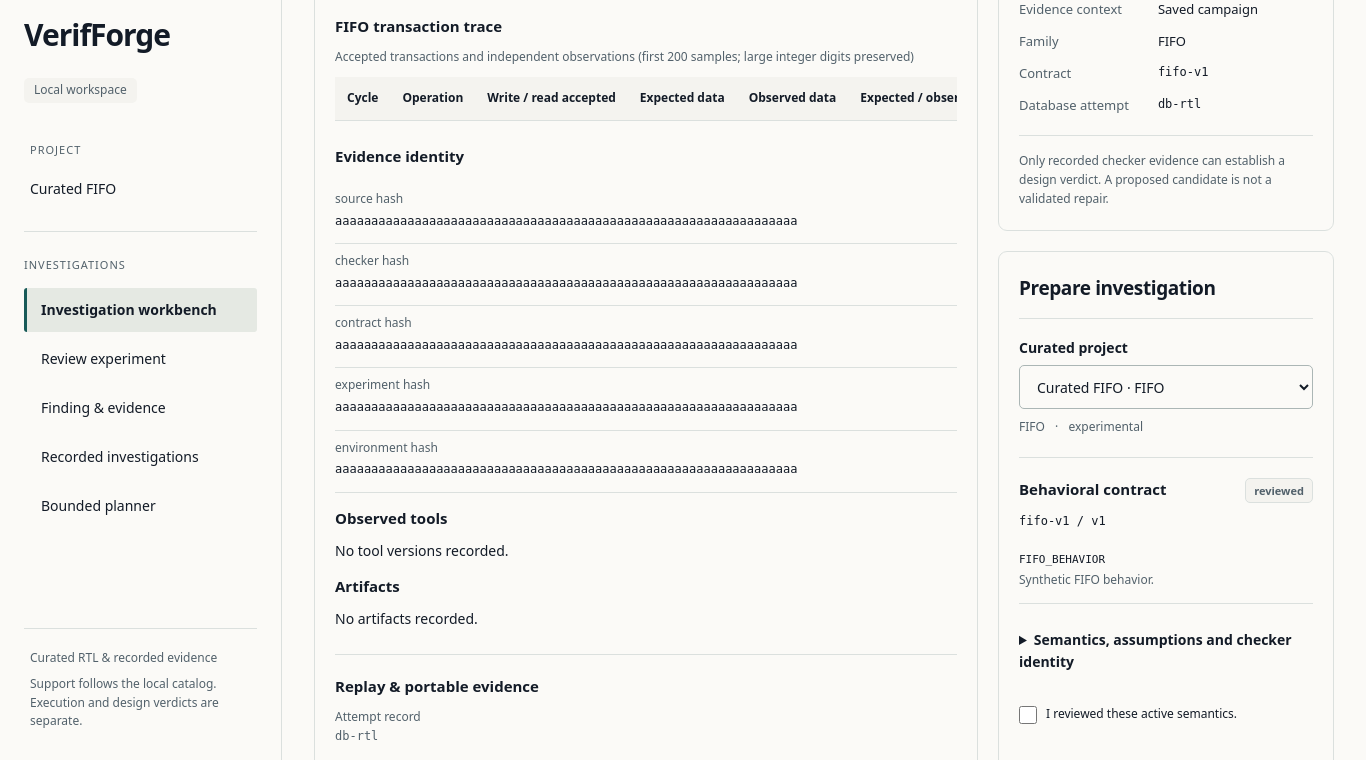
Scenario: makes a project-selector change an explicit context switch and clears saved evidence
The image size is (1366, 760).
(page scrolled)
Expected: the heading "FIFO transaction trace" is shown, [335,16,502,36]
Select "Recorded board · Recorded engineering" in the dropdown labelled "Curated project": (1166, 387) [1019,365,1313,409]
(page scrolled)
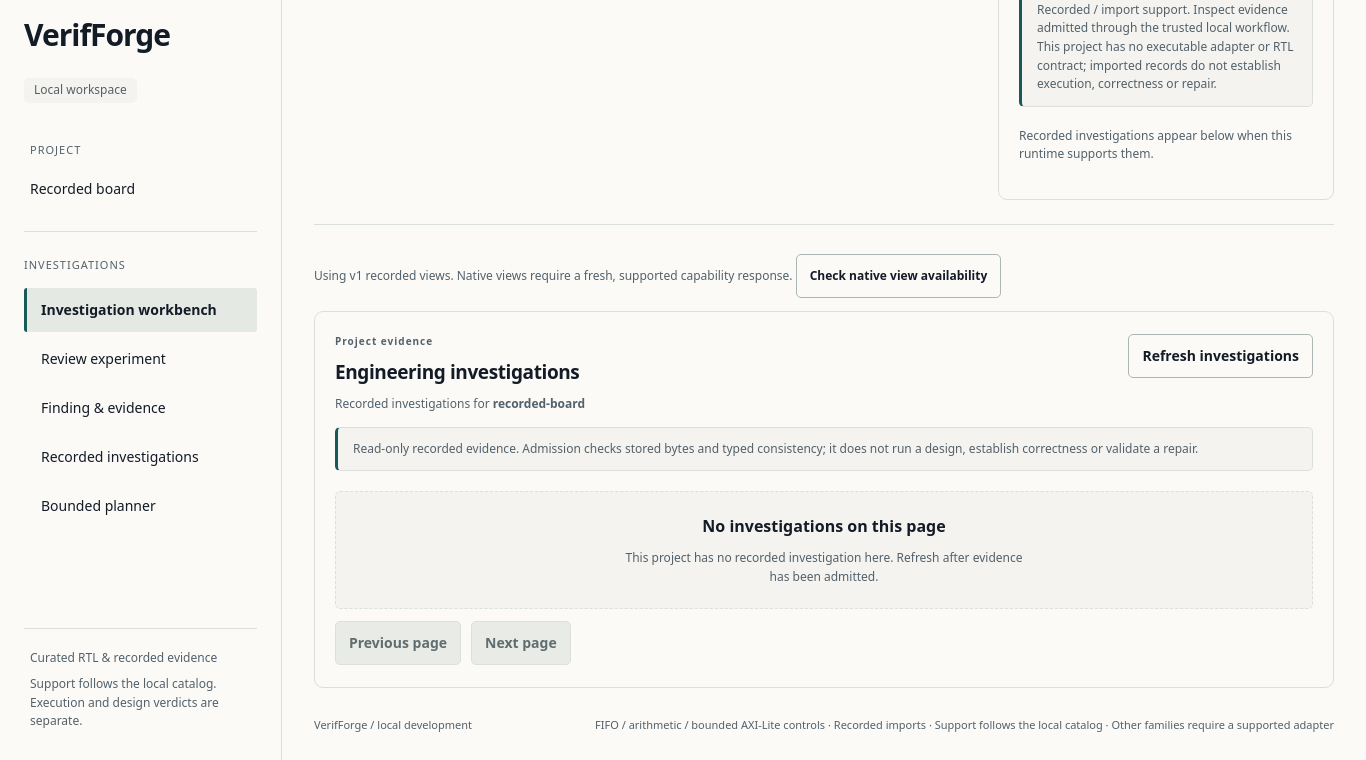
Expected: the text "Recorded investigations for recorded-board" is shown, [335,395,585,414]
Expected: the heading "FIFO transaction trace" is gone
Expected: the heading "Behavioral contract" is gone
